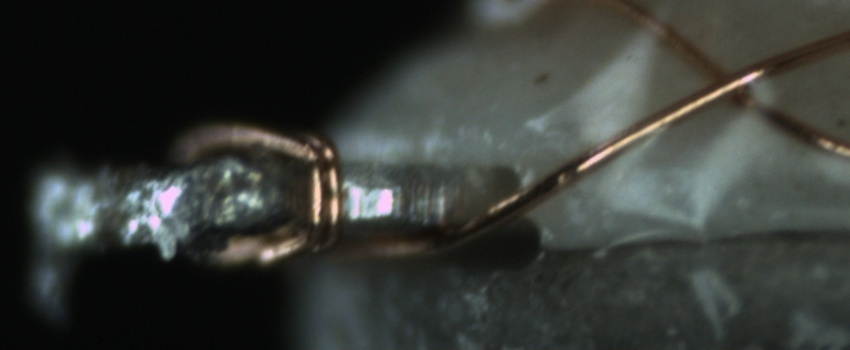CL: (685, 49, 779, 117)
TE: (176, 123, 361, 266)
